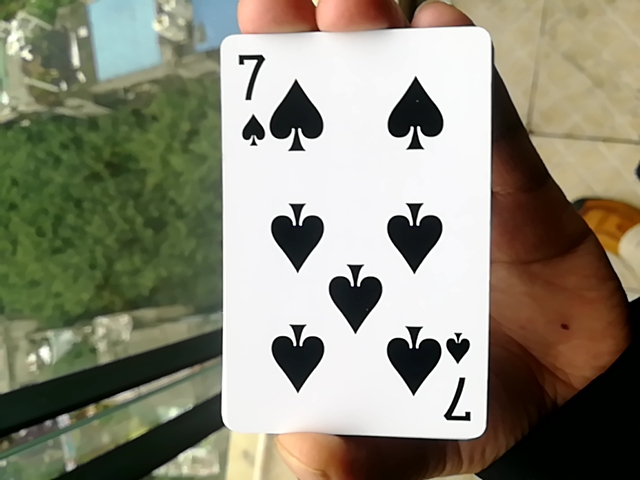ht 7: (224, 13, 479, 450)
